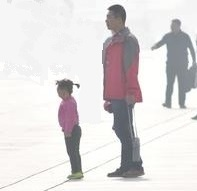person: (101, 4, 147, 178), (152, 18, 196, 110), (54, 78, 87, 180)
